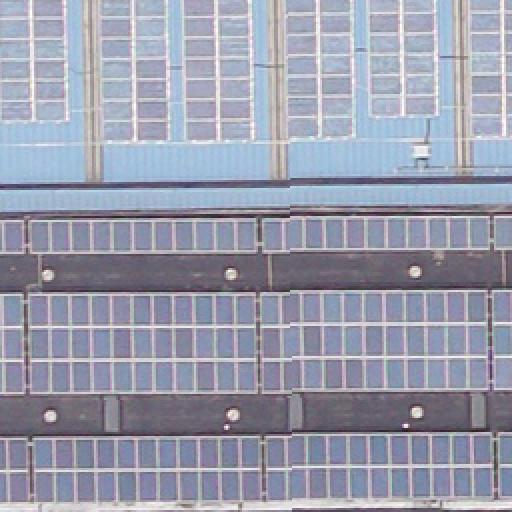solar-panel: (29, 290, 259, 394), (260, 289, 488, 391), (33, 434, 263, 502), (267, 432, 493, 500), (179, 1, 253, 143), (96, 1, 168, 143), (285, 0, 355, 140), (262, 214, 490, 254), (364, 1, 440, 119), (26, 217, 258, 255), (0, 0, 68, 122), (465, 0, 511, 136), (0, 293, 24, 395), (489, 288, 511, 388), (1, 435, 31, 501), (0, 217, 24, 255), (497, 432, 511, 496), (492, 213, 512, 251)
